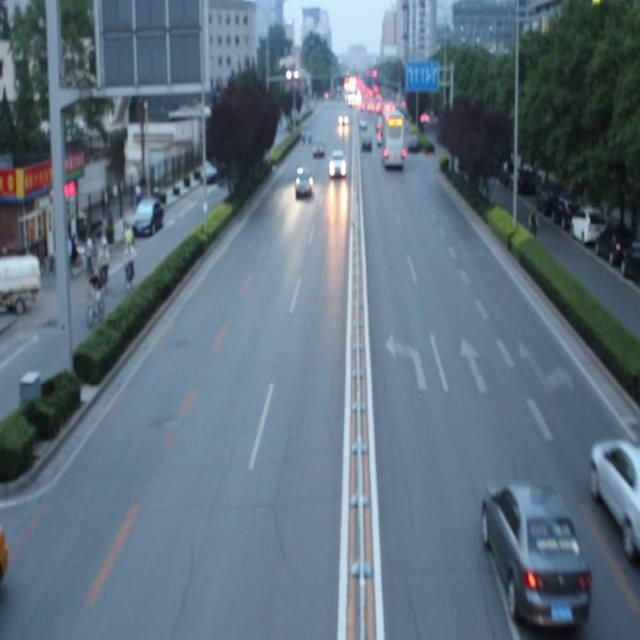car: (483, 478, 588, 623), (591, 438, 640, 546)
